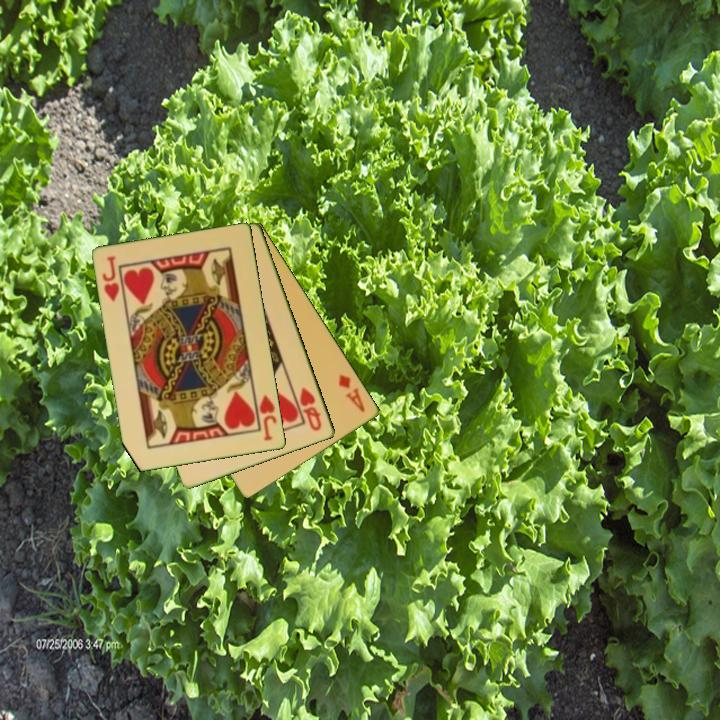Ad: (335, 371, 369, 415)
Jh: (251, 389, 280, 444), (99, 253, 123, 304)
Qh: (297, 384, 325, 434)
